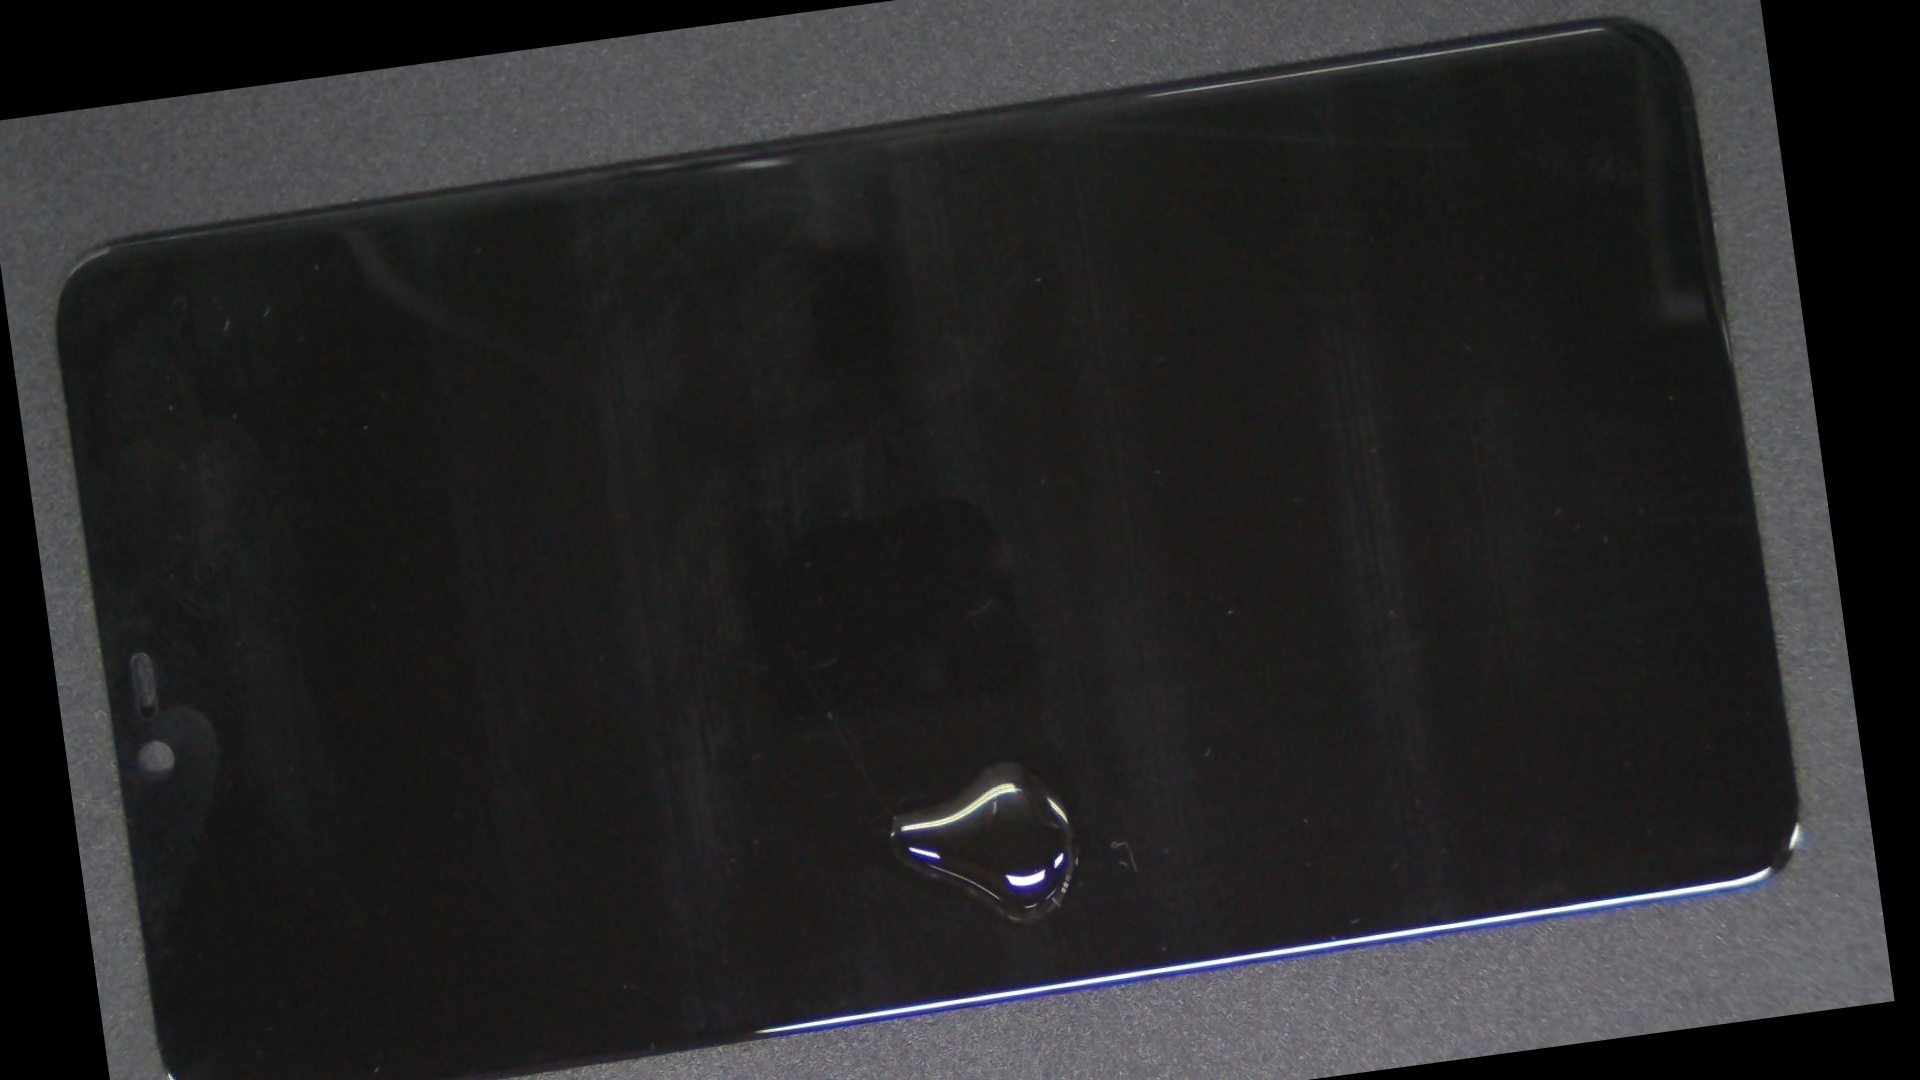oil: (489, 319, 1499, 1080)
